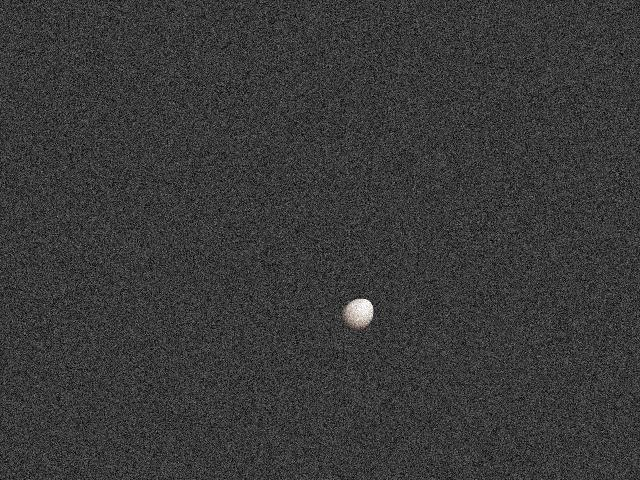egg: (340, 298, 373, 330)
